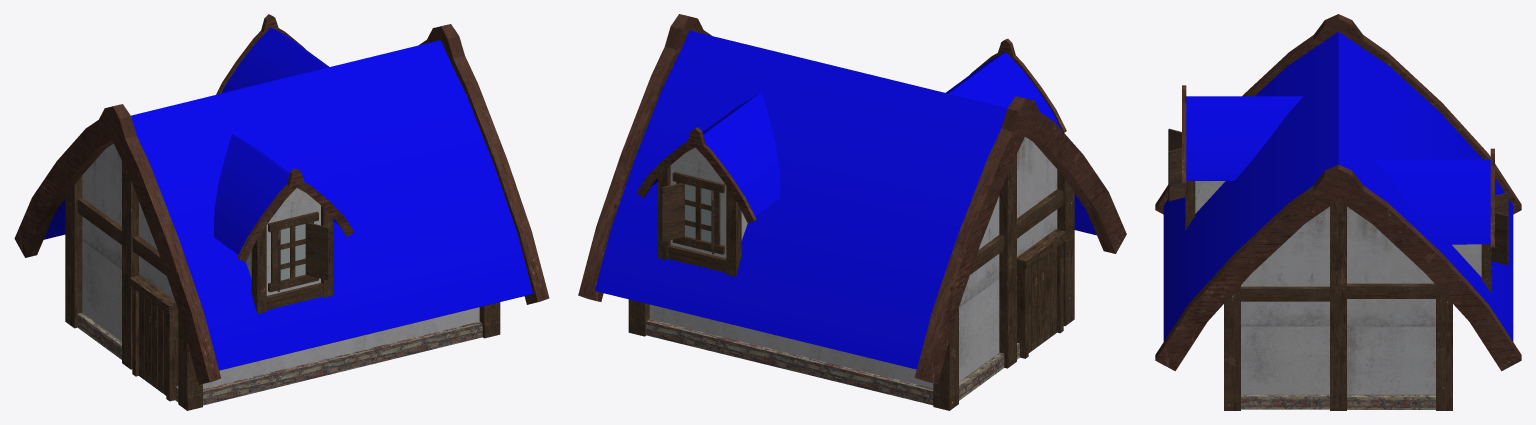
The model's file is casa2.fbx.
3 renders of one model, left to right at view 1: azimuth 30°, elevation 25°; view 2: azimuth 150°, elevation 25°; view 3: azimuth 270°, elevation 25°, orthographic. The views are drawn at different scales.
Visible parts, largest first — view 1: TEJADO, MADERATEJADO, MADERACASITA, CASITA, BASECASITA, PUERTASVENTANAS, VENTANAS; view 2: TEJADO, MADERATEJADO, MADERACASITA, CASITA, BASECASITA, PUERTASVENTANAS, VENTANAS; view 3: TEJADO, CASITA, MADERATEJADO, MADERACASITA, BASECASITA, PUERTASVENTANAS.
Part boxes in pixels (box(x1,y1,x2,y2)): TEJADO: box(43, 27, 532, 370); MADERATEJADO: box(14, 14, 549, 384); MADERACASITA: box(65, 161, 500, 410); CASITA: box(82, 143, 479, 388); BASECASITA: box(77, 313, 482, 405); PUERTASVENTANAS: box(277, 223, 328, 291); VENTANAS: box(280, 224, 305, 280); TEJADO: box(595, 30, 1096, 369); MADERATEJADO: box(578, 14, 1126, 384); MADERACASITA: box(628, 154, 1074, 410); CASITA: box(649, 137, 1057, 388); BASECASITA: box(646, 319, 1019, 405); PUERTASVENTANAS: box(661, 183, 714, 254); VENTANAS: box(685, 184, 711, 242); TEJADO: box(1163, 31, 1513, 341); CASITA: box(1195, 181, 1481, 394); MADERATEJADO: box(1155, 14, 1521, 371); MADERACASITA: box(1185, 181, 1491, 410); BASECASITA: box(1241, 394, 1435, 409); PUERTASVENTANAS: box(1168, 128, 1508, 265).
Size of the model in its own units: 19.03 by 14.12 by 18.91.
